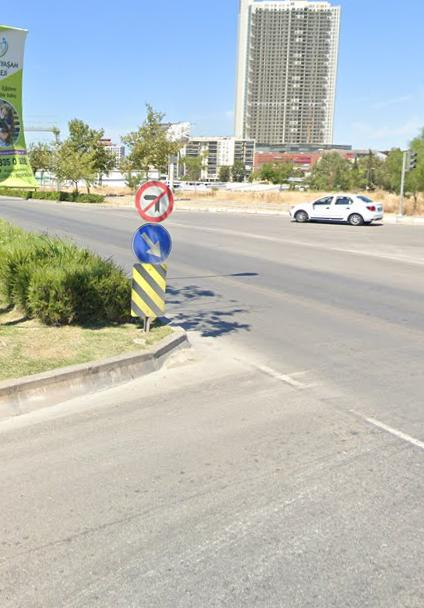leftturnsareforbidden: (137, 183, 174, 220)
